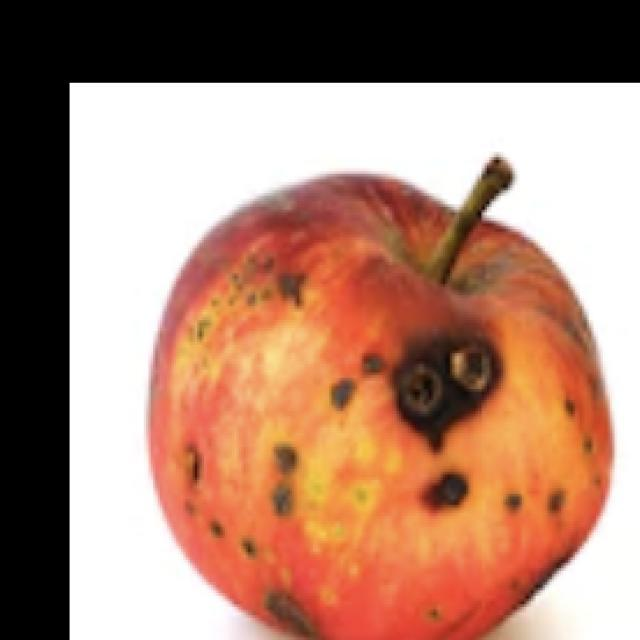Rotten: (152, 168, 620, 637)
